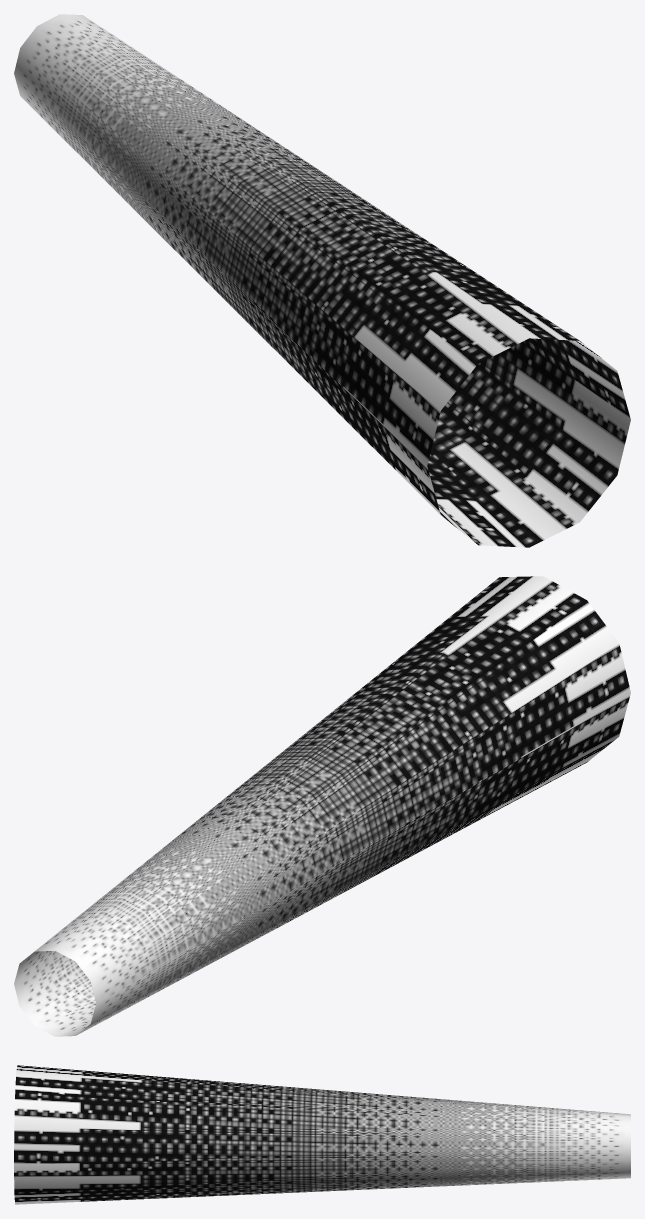
Rendered from BEAM_CONE_A.fbx.
3 views of the same model, one above another, from view 1: azimuth 30°, elevation 25°; view 2: azimuth 150°, elevation 25°; view 3: azimuth 270°, elevation 25° (orthographic). The views are drawn at different scales.
Visible parts, largest first — view 1: Cylinder.017; view 2: Cylinder.017; view 3: Cylinder.017.
Boxes of the visible parts, x1,y1,x2,y2 form: Cylinder.017: (14,14,630,547); Cylinder.017: (14,576,630,1036); Cylinder.017: (14,1065,630,1204).
Size of the model in its own units: 69.75 by 69.79 by 308.
